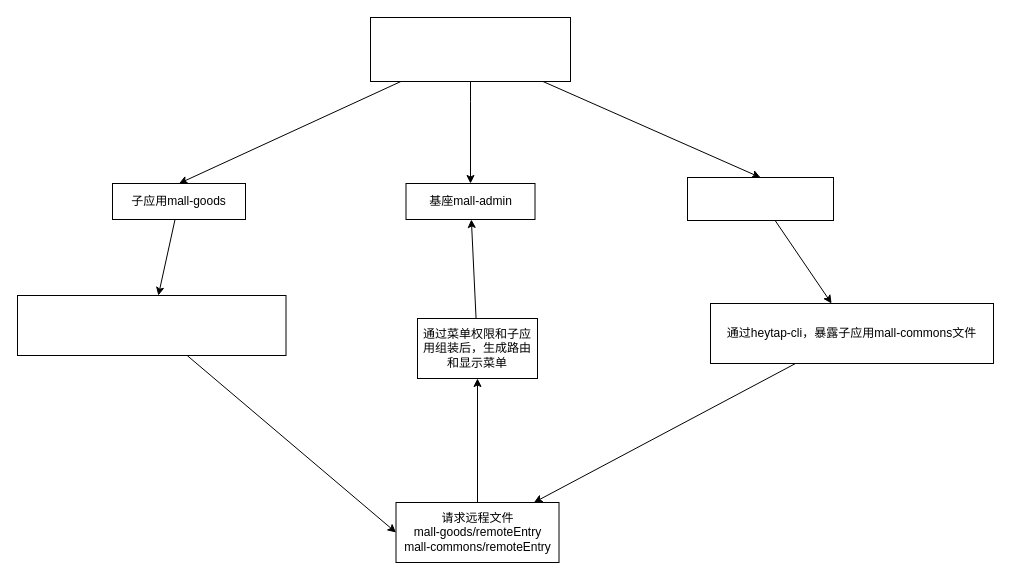
Some shapes in this 1011 by 580 pixel diagram are drawn without their labels. The box of each missing label's shape, as (x1, y1, x2, y2) in pixels:
heytap-cli: (370, 16, 570, 82)
子应用mall-commons: (686, 176, 834, 220)
通过heytap-cli，暴露子应用mall-goods文件: (16, 294, 286, 356)
